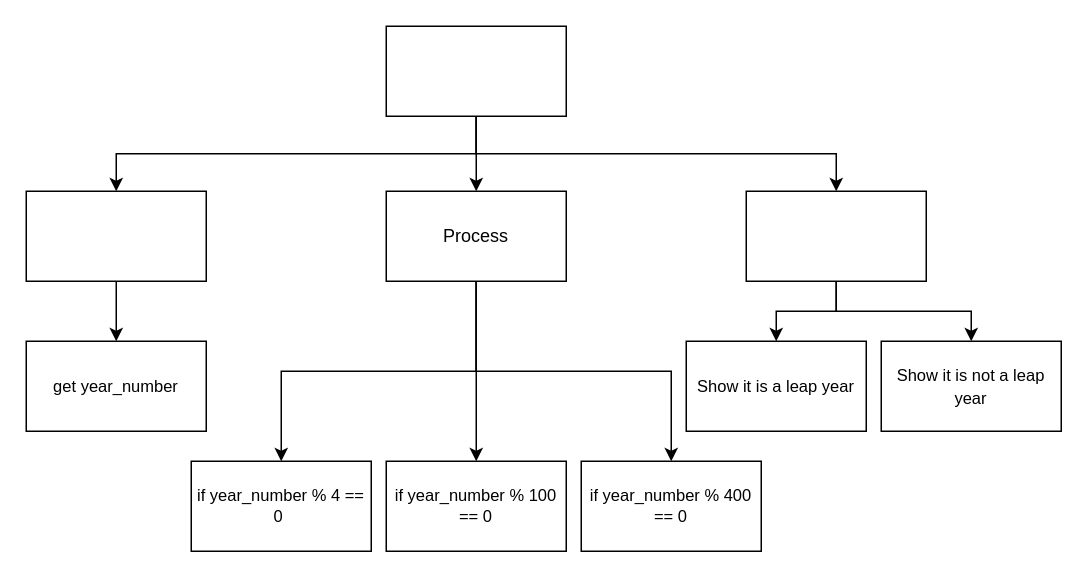
Image size: 1088x578. Some labels were removed from this diagram. The shapes that lost their labels are listed below. From the top down, each one's centre as x and y in pixels, then its label:
At point (475, 70): "leap year".
At point (115, 235): "Input".
At point (835, 235): "Output".
